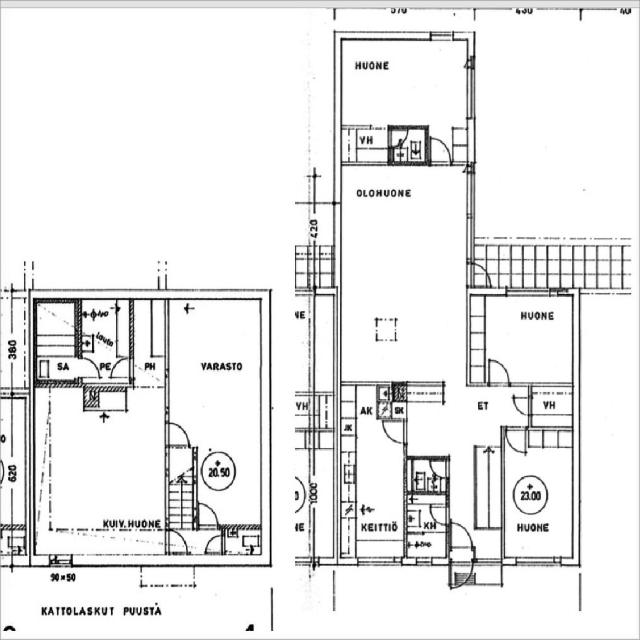door: (165, 418, 192, 448), (380, 417, 408, 445), (503, 425, 529, 455), (486, 356, 512, 386), (427, 135, 452, 165), (450, 558, 474, 589), (448, 521, 474, 549), (196, 500, 220, 529), (109, 355, 133, 381), (166, 528, 188, 553), (511, 393, 533, 417), (428, 502, 450, 526), (77, 356, 101, 378), (428, 457, 450, 478), (388, 126, 409, 146), (204, 531, 223, 553), (321, 17, 338, 33)
window: (463, 63, 479, 121), (514, 554, 564, 570), (356, 554, 402, 569), (506, 286, 552, 299), (48, 552, 74, 568), (428, 29, 456, 43)
zone: (338, 161, 469, 382), (34, 382, 164, 554), (169, 294, 264, 528), (338, 382, 407, 562), (340, 40, 472, 128), (468, 291, 576, 385), (504, 429, 574, 560), (78, 299, 126, 360), (166, 447, 194, 530), (35, 298, 78, 352), (530, 383, 574, 429), (340, 126, 391, 164), (406, 493, 449, 531), (408, 456, 450, 494), (406, 530, 450, 564), (222, 525, 264, 560), (390, 126, 428, 164)
